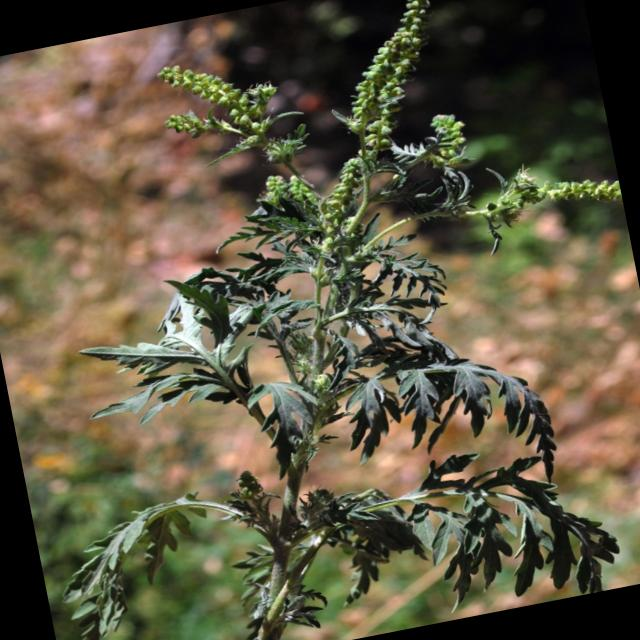ambrosia: (290, 0, 630, 297), (108, 39, 364, 328)
